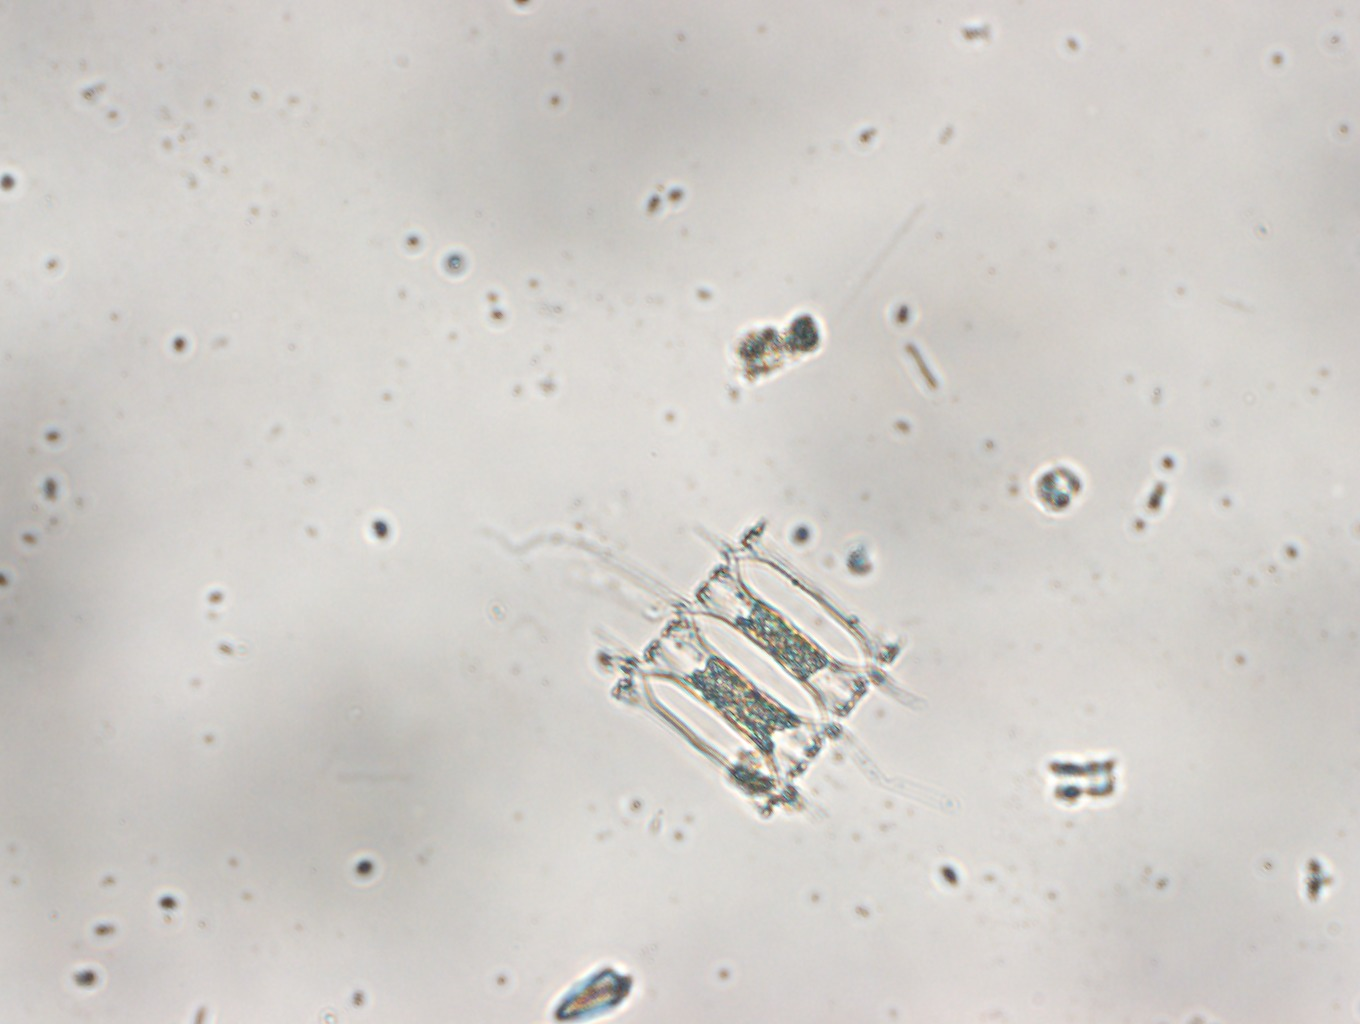chaetoceros: (593, 508, 911, 824)
